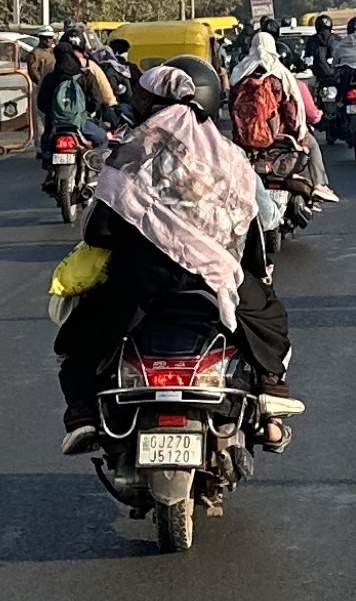BikeWithRider: (38, 47, 311, 561), (221, 19, 343, 260), (26, 21, 135, 228), (298, 10, 356, 156)
Helmet: (149, 52, 227, 129), (57, 25, 92, 57), (313, 13, 335, 35)
NoHelmet: (125, 60, 203, 135), (241, 28, 284, 67)
